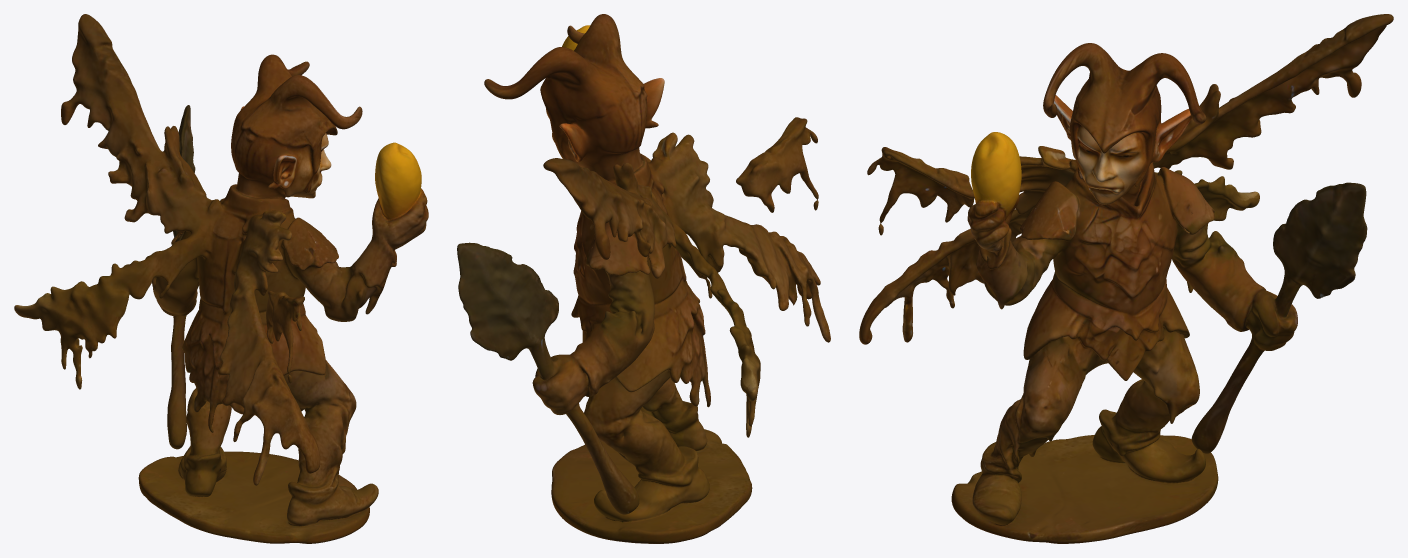
3 renders of one model, left to right at view 1: azimuth 30°, elevation 25°; view 2: azimuth 150°, elevation 25°; view 3: azimuth 270°, elevation 25°, orthographic. The views are drawn at different scales.
Parts seen in each view (by area): view 1: tripo_node_8a89d6a7-d44f-4b41-8e13-6a225a0e21a2; view 2: tripo_node_8a89d6a7-d44f-4b41-8e13-6a225a0e21a2; view 3: tripo_node_8a89d6a7-d44f-4b41-8e13-6a225a0e21a2.
Part boxes in pixels (box(x1,y1,x2,y2)): tripo_node_8a89d6a7-d44f-4b41-8e13-6a225a0e21a2: box(14, 14, 428, 543); tripo_node_8a89d6a7-d44f-4b41-8e13-6a225a0e21a2: box(457, 14, 830, 543); tripo_node_8a89d6a7-d44f-4b41-8e13-6a225a0e21a2: box(859, 14, 1393, 543).
Size of the model in its own units: 0.7273 by 0.986 by 1.
1 material, 1 textured.
